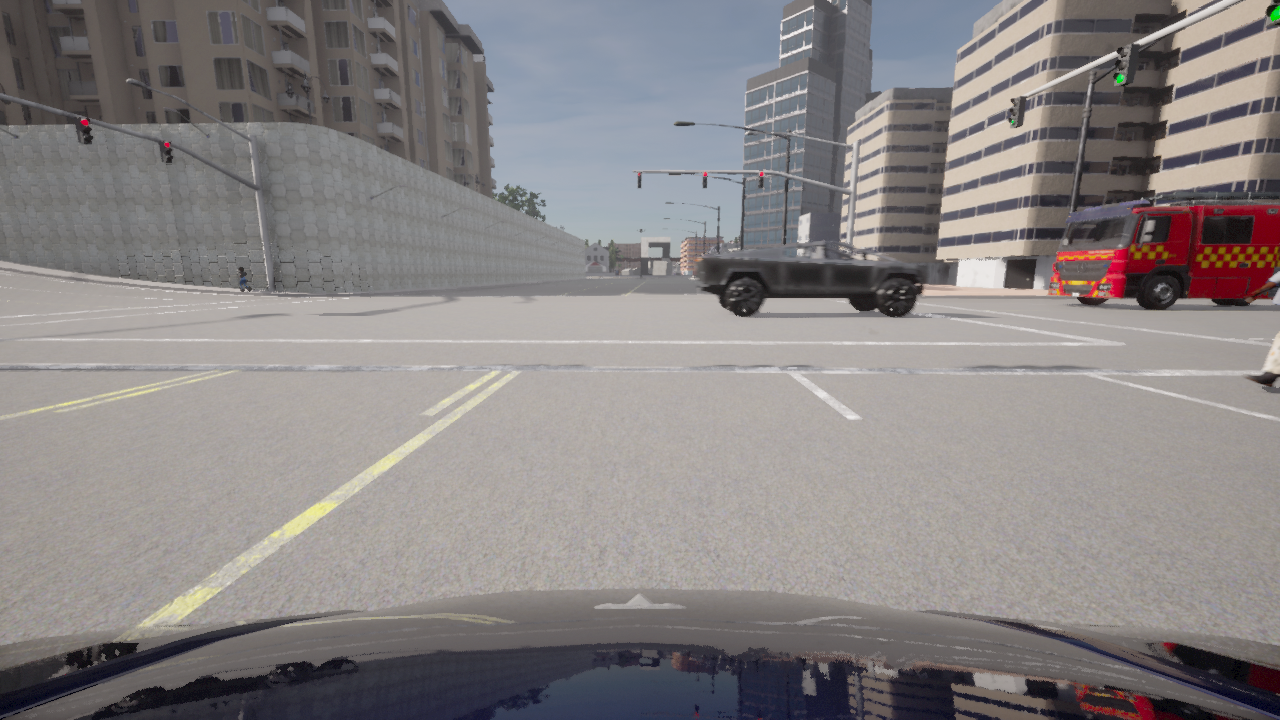cyclist: (0, 588, 1279, 719), (1048, 192, 1279, 309), (695, 240, 927, 317), (674, 272, 675, 274)
pedestrian: (1243, 271, 1279, 386), (238, 267, 250, 290)
